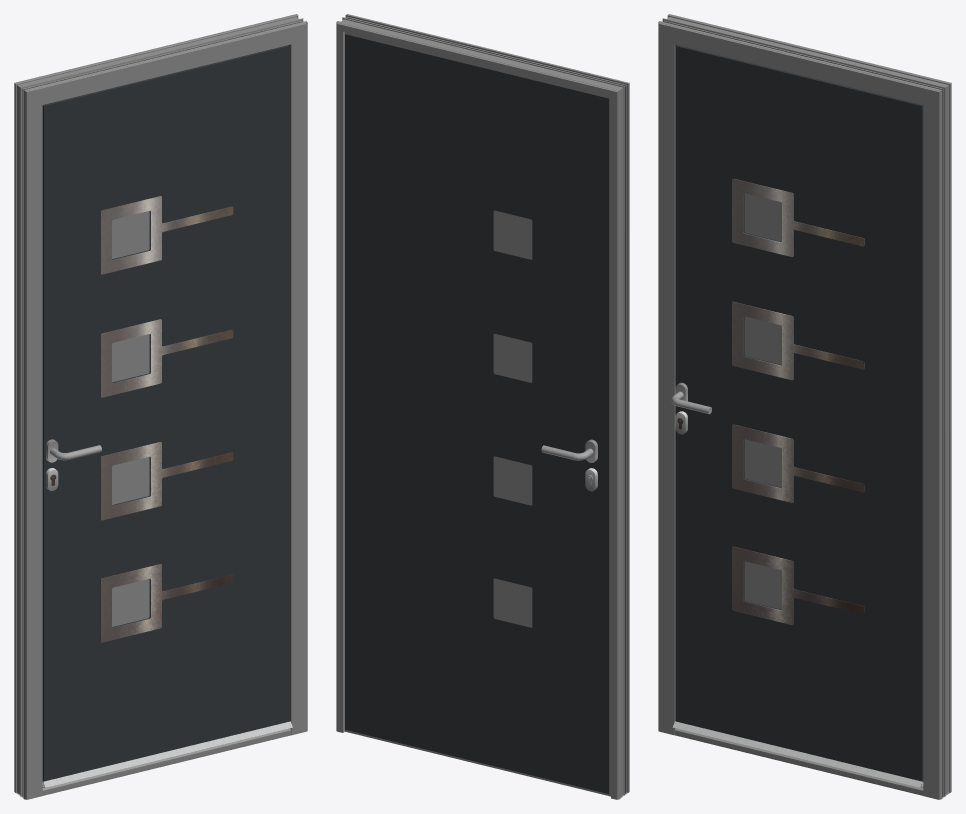
The picture shows the model from 3 angles, left to right: view 1: azimuth 30°, elevation 25°; view 2: azimuth 150°, elevation 25°; view 3: azimuth 330°, elevation 25°; orthographic projection.
Parts seen in each view (by area): view 1: bloco_28, aroFixo, alunox_18, Box001, rodapé, escovas, puxador001; view 2: bloco_28, aroFixo, Box002, puxador, rodapé; view 3: bloco_28, aroFixo, alunox_18, Box001, rodapé, escovas, puxador001.
Boxes of the visible parts, x1,y1,x2,y2 form: bloco_28: (42, 45, 289, 781); aroFixo: (14, 14, 307, 799); alunox_18: (100, 196, 233, 642); Box001: (112, 211, 149, 626); rodapé: (42, 728, 290, 795); escovas: (42, 721, 292, 787); puxador001: (46, 439, 101, 491); bloco_28: (345, 34, 609, 793); aroFixo: (336, 14, 629, 799); Box002: (493, 210, 532, 627); puxador: (541, 439, 597, 491); rodapé: (348, 731, 609, 795); bloco_28: (676, 45, 923, 781); aroFixo: (658, 14, 951, 799); alunox_18: (732, 178, 864, 624); Box001: (744, 193, 781, 609); rodapé: (675, 728, 923, 795); escovas: (672, 721, 923, 787); puxador001: (671, 382, 711, 434).
Bounding box in the file's own units: 898 × 2151 × 209.
10 materials, 5 textured.
